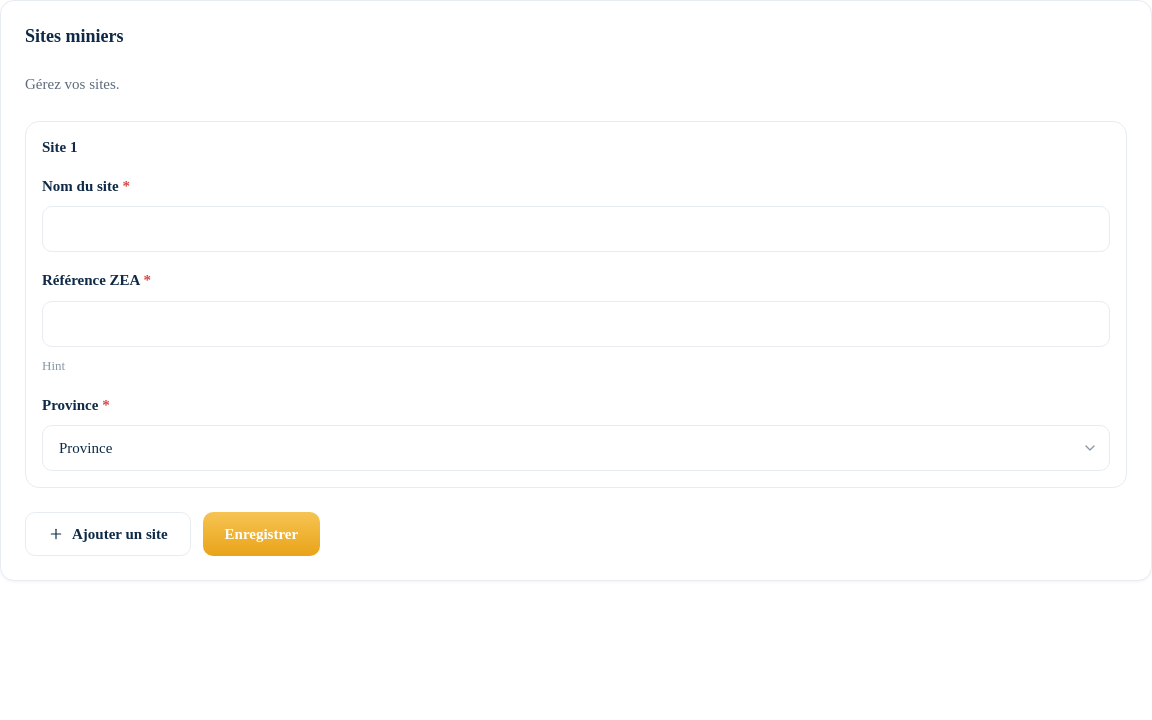
CooperativeSitesForm › adds a second site row when clicking add site
The image size is (1152, 720).
Click the button "Ajouter un site".
click(108, 534)  # box top-left (25, 512), bottom-right (191, 556)
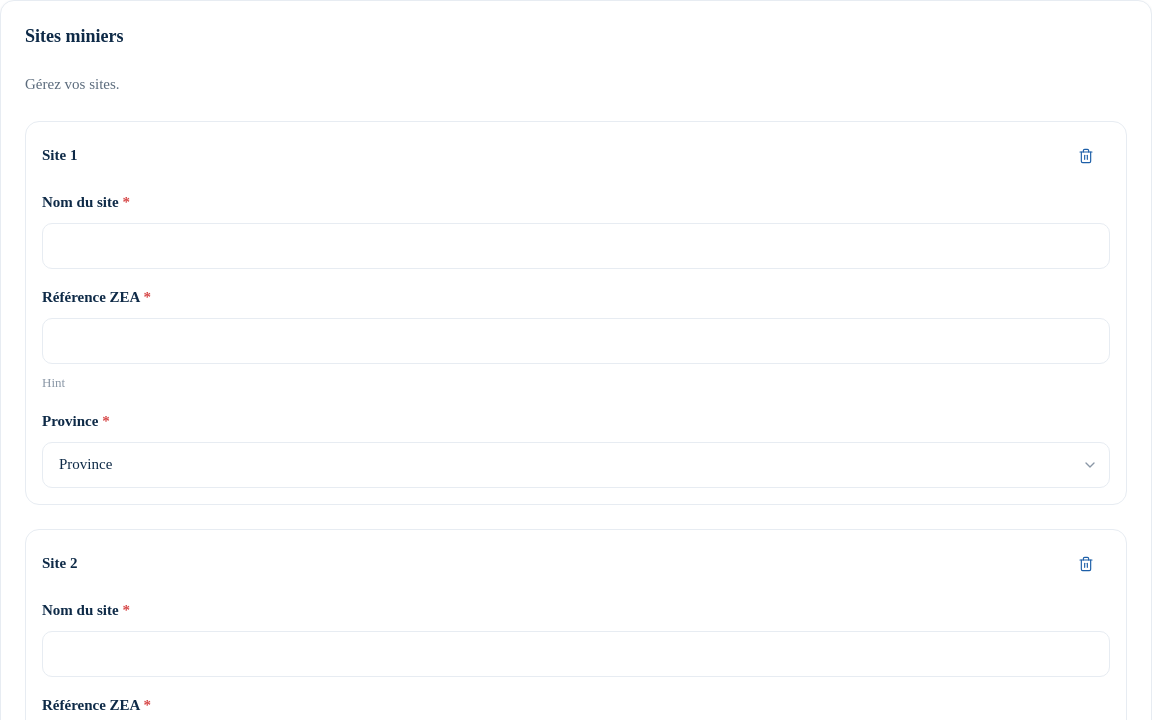
Expected: the heading "Site 1" is shown, top-left (42, 146), bottom-right (77, 166)
Expected: the heading "Site 2" is shown, top-left (42, 554), bottom-right (77, 574)
Expected: the text "Nom du site" is shown 2 times, top-left (42, 194), bottom-right (130, 210); top-left (42, 602), bottom-right (130, 618)
